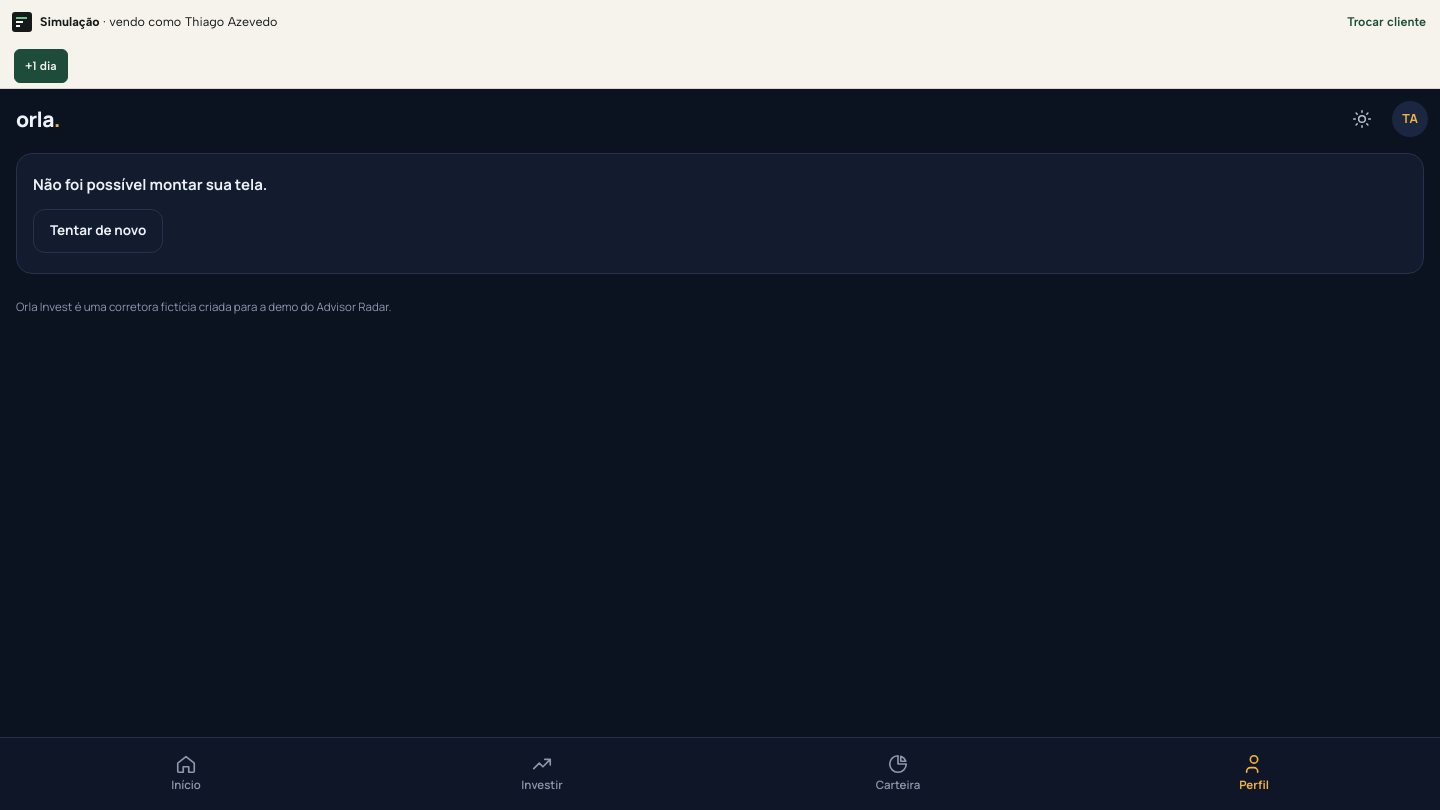
Test case: Raio-X SDUI toggle in the simulation strip › hides the toggle and the X-ray while no SDUI screen is on view
This screenshot has width=1440, height=810.
Expected: the message reads "Não foi possível montar sua tela.", [33,174,267,195]
Expected: the button "Raio-X" is not shown
Click the button "Início".
click(186, 772)  # box [8,744,364,800]
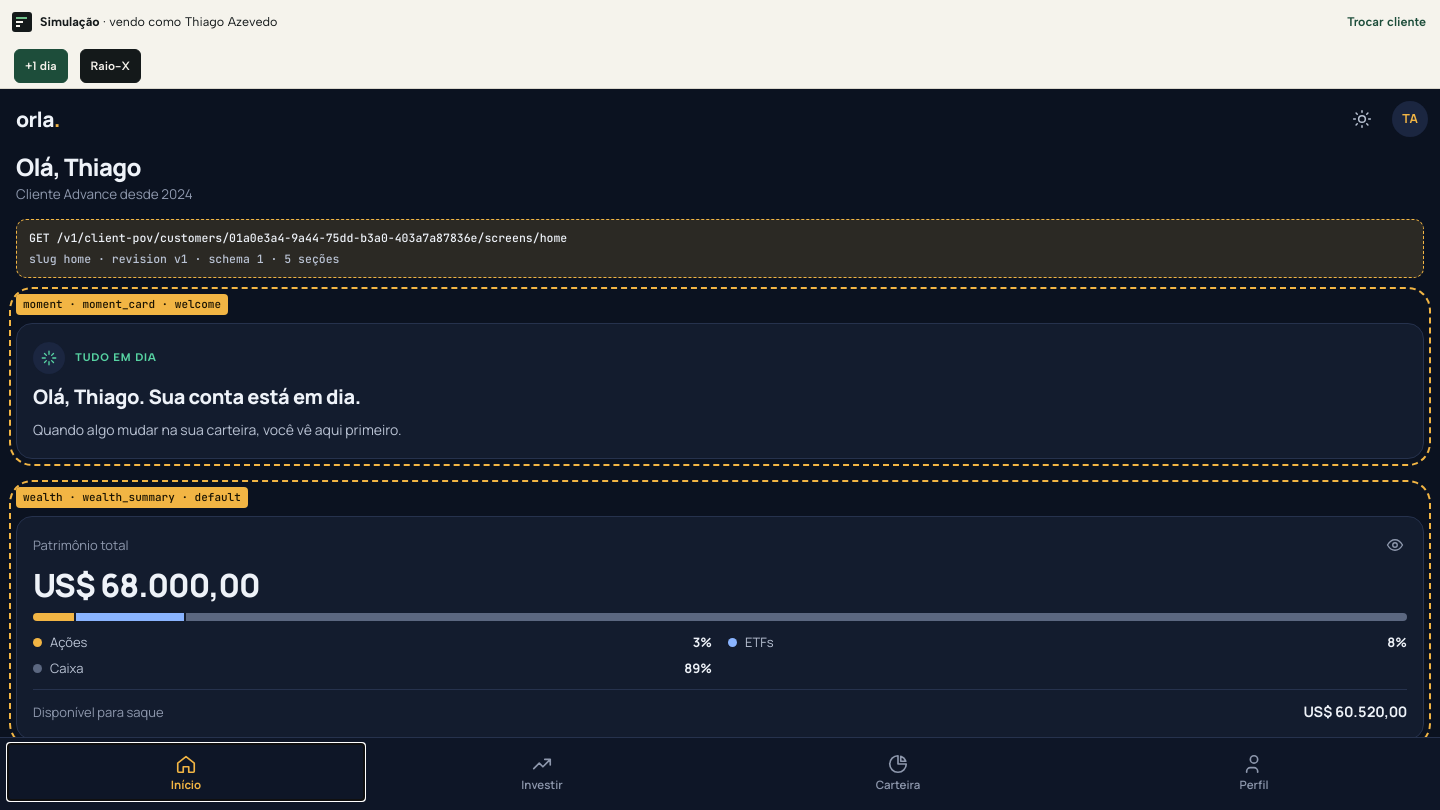
Now the element named "Raio-X SDUI" is shown, box [16,220,1424,278]
